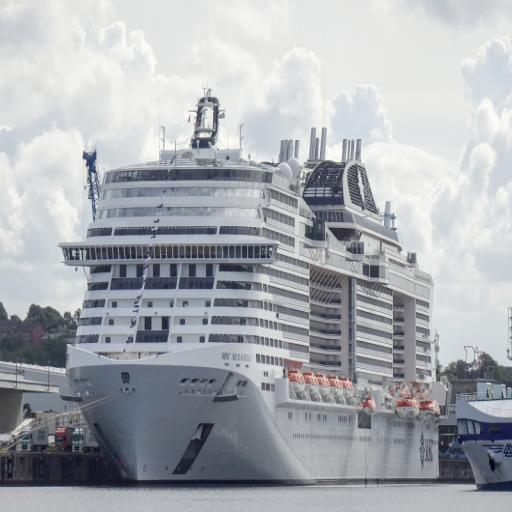cruises: (55, 89, 446, 493)
